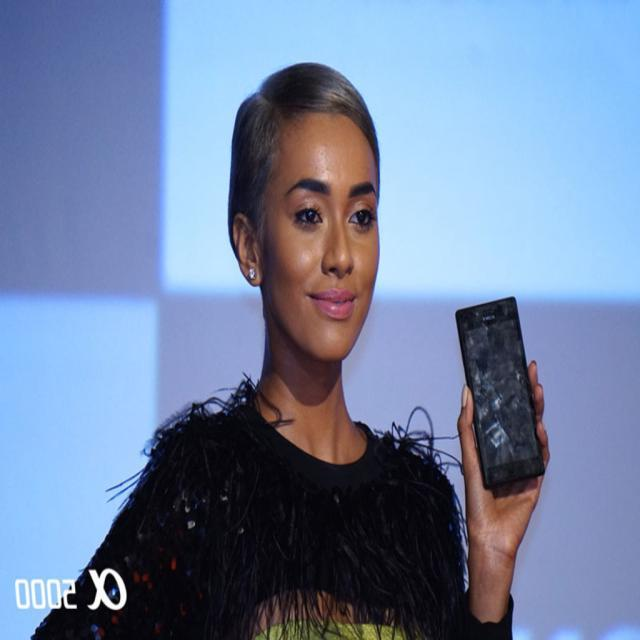phone: (455, 298, 551, 494)
